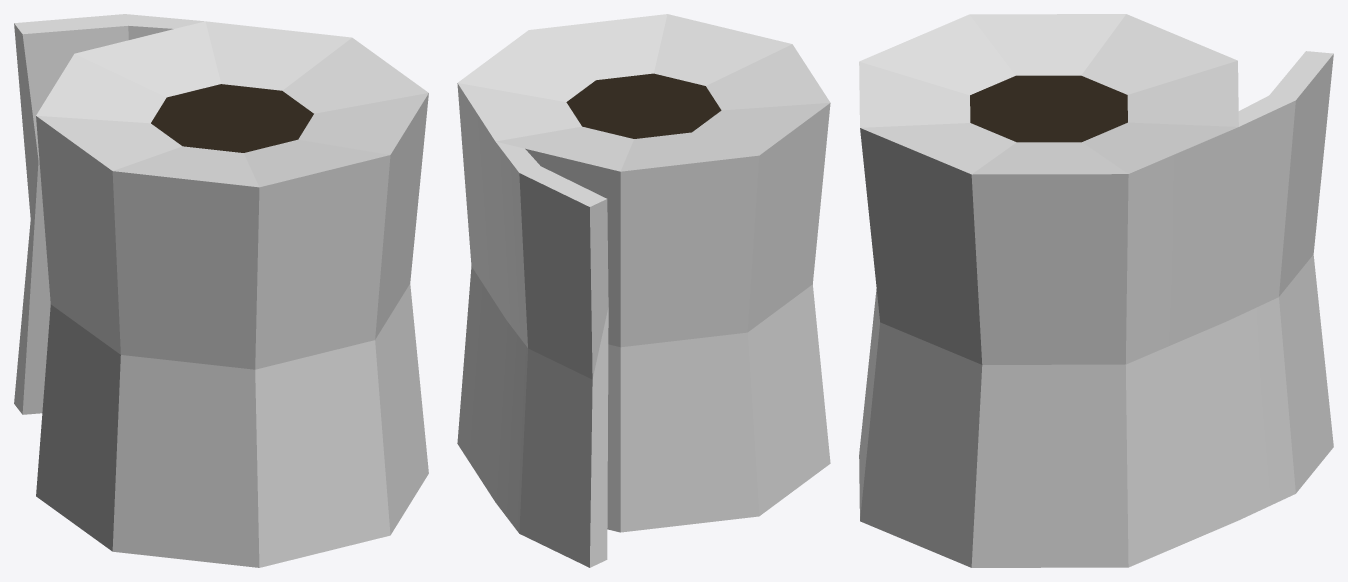
File: SM_Prop_Toilet_Paper_02.obj
The picture shows the model from 3 angles, left to right: view 1: azimuth 30°, elevation 25°; view 2: azimuth 150°, elevation 25°; view 3: azimuth 270°, elevation 25°; orthographic projection. The views are drawn at different scales.
Visible parts, largest first — view 1: SM_Prop_Toilet_Paper_02_0; view 2: SM_Prop_Toilet_Paper_02_0; view 3: SM_Prop_Toilet_Paper_02_0.
Boxes of the visible parts, bbox=[...] form: SM_Prop_Toilet_Paper_02_0: bbox=[14, 14, 428, 567]; SM_Prop_Toilet_Paper_02_0: bbox=[457, 14, 830, 567]; SM_Prop_Toilet_Paper_02_0: bbox=[859, 14, 1333, 567].
Bounding box in the file's own units: 0.1129 × 0.1291 × 0.1411.
1 material, 1 textured.
